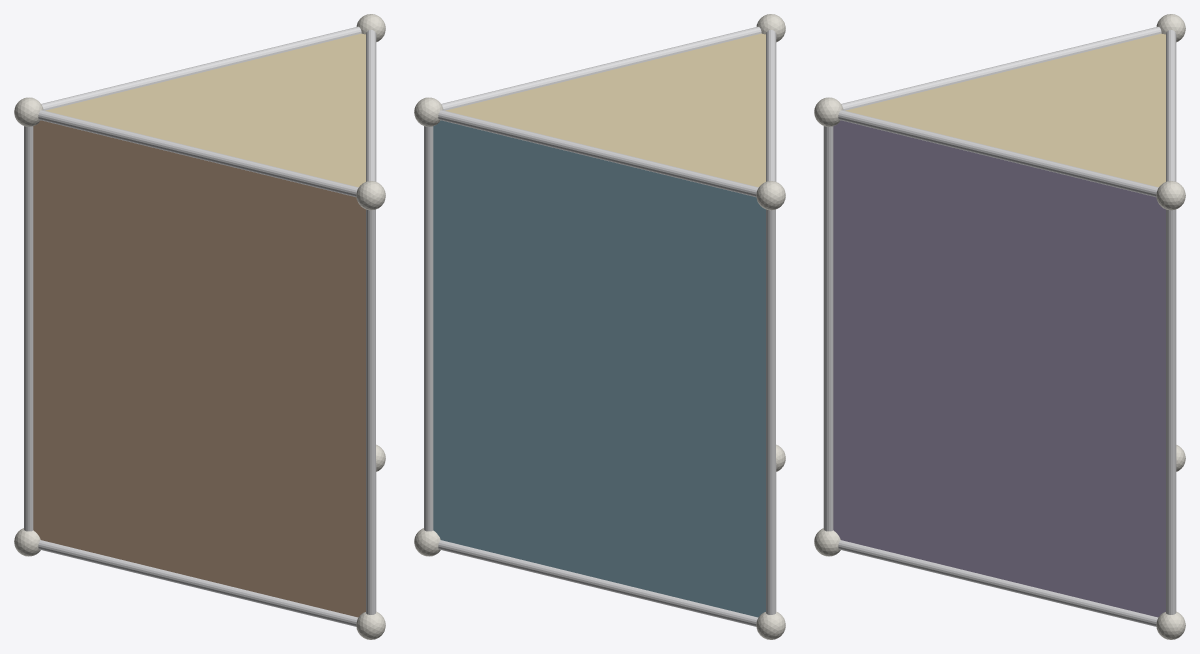
Rendered from 02_prisma_sisi_pastel.glb.
3 views of the same model, side by side, from view 1: azimuth 30°, elevation 25°; view 2: azimuth 150°, elevation 25°; view 3: azimuth 270°, elevation 25° (orthographic).
Visible parts, largest first — view 1: Sisi_Tegak_03, Tutup_Segitiga, Rusuk_07, Rusuk_09, Rusuk_06, Rusuk_03, Rusuk_04, Rusuk_05, Titik_Sudut_06, Titik_Sudut_04, Titik_Sudut_03, Titik_Sudut_01; view 2: Sisi_Tegak_01, Tutup_Segitiga, Rusuk_08, Rusuk_07, Rusuk_04, Rusuk_01, Rusuk_05, Rusuk_06, Titik_Sudut_04, Titik_Sudut_01, Titik_Sudut_05, Titik_Sudut_02; view 3: Sisi_Tegak_02, Tutup_Segitiga, Rusuk_09, Rusuk_08, Rusuk_05, Rusuk_02, Rusuk_06, Rusuk_04, Titik_Sudut_05, Titik_Sudut_02, Titik_Sudut_06, Titik_Sudut_03.
Boxes of the visible parts, x1,y1,x2,y2 form: Sisi_Tegak_03: [33, 120, 365, 617]; Tutup_Segitiga: [45, 33, 365, 187]; Rusuk_07: [24, 126, 33, 531]; Rusuk_09: [366, 209, 375, 614]; Rusuk_06: [38, 110, 358, 196]; Rusuk_03: [38, 540, 358, 626]; Rusuk_04: [41, 26, 361, 110]; Rusuk_05: [366, 30, 376, 181]; Titik_Sudut_06: [356, 181, 385, 210]; Titik_Sudut_04: [14, 97, 43, 126]; Titik_Sudut_03: [356, 611, 385, 639]; Titik_Sudut_01: [14, 528, 40, 556]; Sisi_Tegak_01: [433, 120, 765, 617]; Tutup_Segitiga: [445, 33, 765, 187]; Rusuk_08: [424, 126, 433, 531]; Rusuk_07: [766, 209, 775, 614]; Rusuk_04: [438, 110, 758, 196]; Rusuk_01: [438, 540, 758, 626]; Rusuk_05: [441, 26, 761, 110]; Rusuk_06: [766, 30, 776, 181]; Titik_Sudut_04: [756, 181, 785, 210]; Titik_Sudut_01: [756, 611, 785, 639]; Titik_Sudut_05: [414, 97, 443, 126]; Titik_Sudut_02: [414, 528, 440, 556]; Sisi_Tegak_02: [833, 120, 1165, 617]; Tutup_Segitiga: [845, 33, 1165, 187]; Rusuk_09: [823, 126, 833, 531]; Rusuk_08: [1166, 209, 1176, 614]; Rusuk_05: [838, 110, 1158, 196]; Rusuk_02: [838, 540, 1158, 626]; Rusuk_06: [841, 26, 1161, 110]; Rusuk_04: [1166, 30, 1176, 181]; Titik_Sudut_05: [1156, 181, 1185, 210]; Titik_Sudut_02: [1156, 611, 1185, 639]; Titik_Sudut_06: [814, 97, 843, 126]; Titik_Sudut_03: [814, 528, 840, 556].
Bounding box in the file's own units: 2.15 × 2.55 × 1.88.
